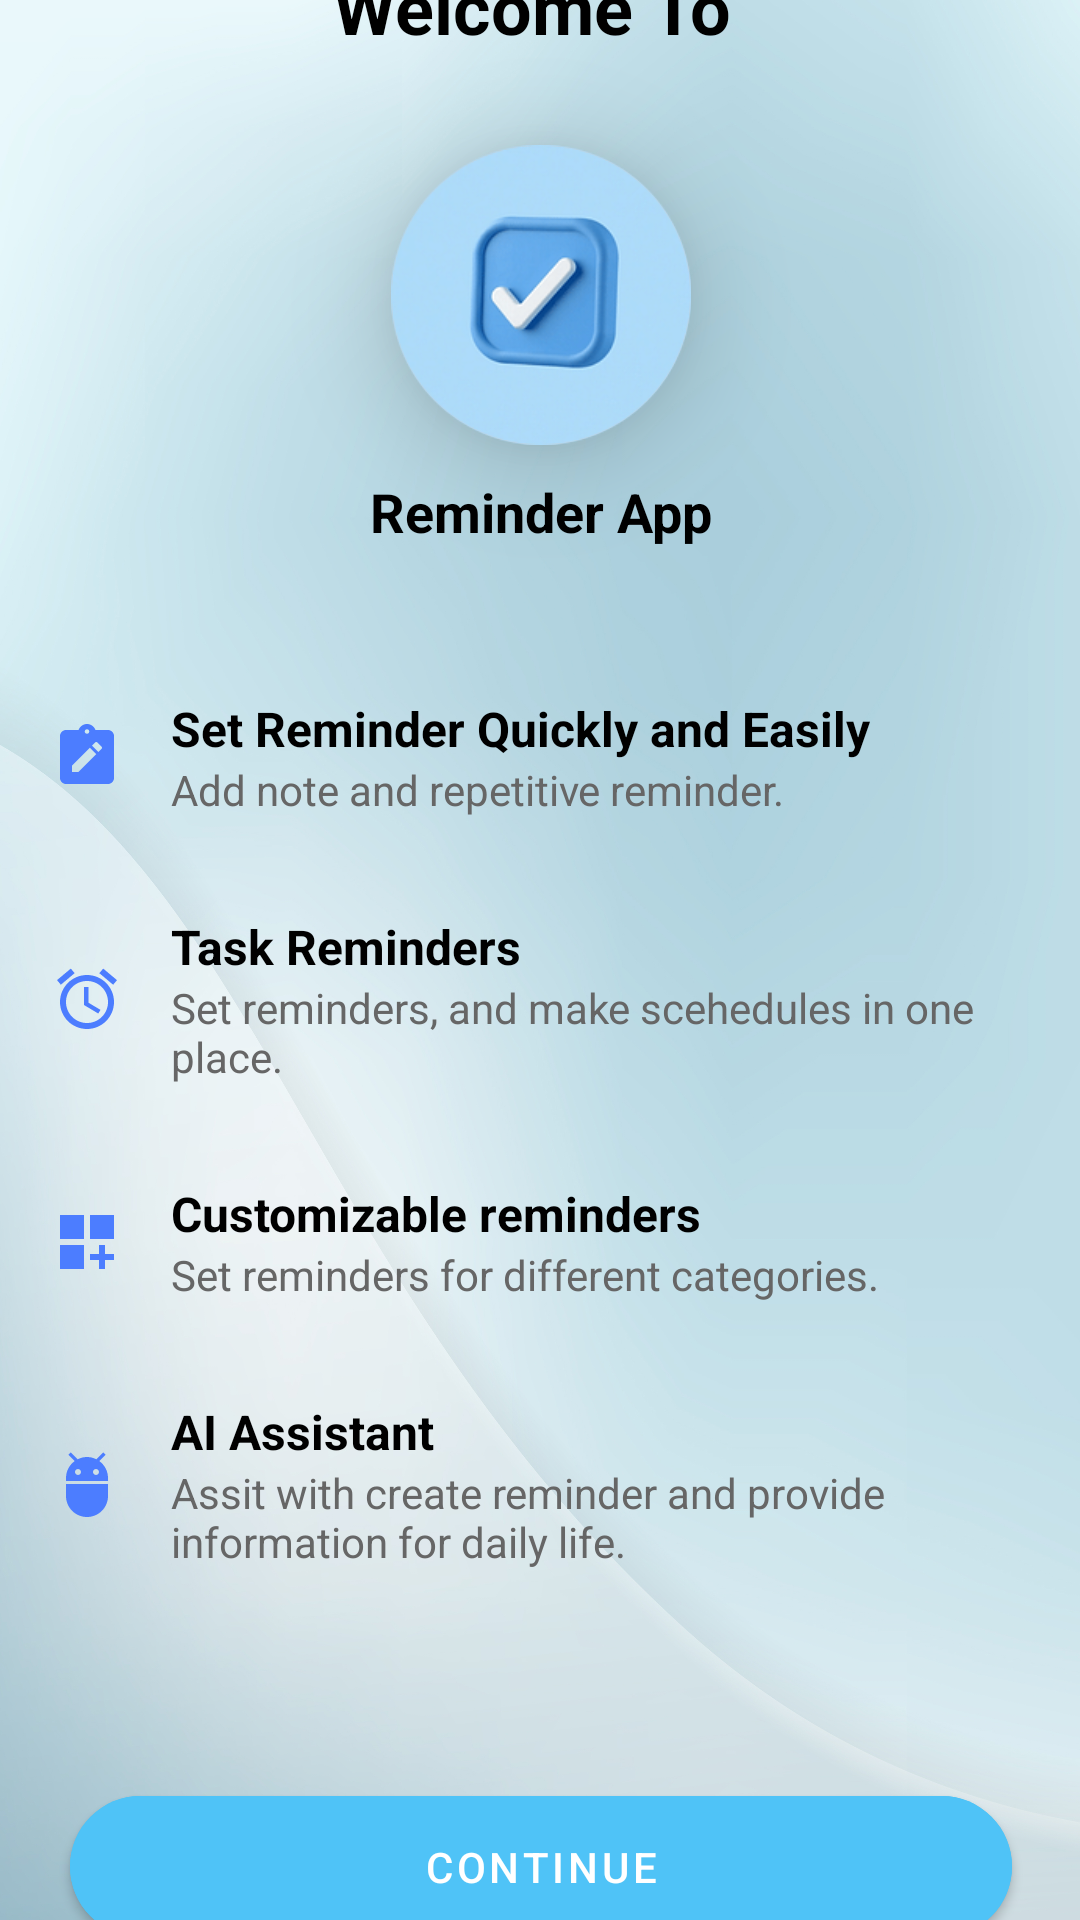

Named icons in this screenshot (1080px×1920px) and their centers, point (x, y):
alarm: point (87, 999)
dashboard customize: point (87, 1242)
